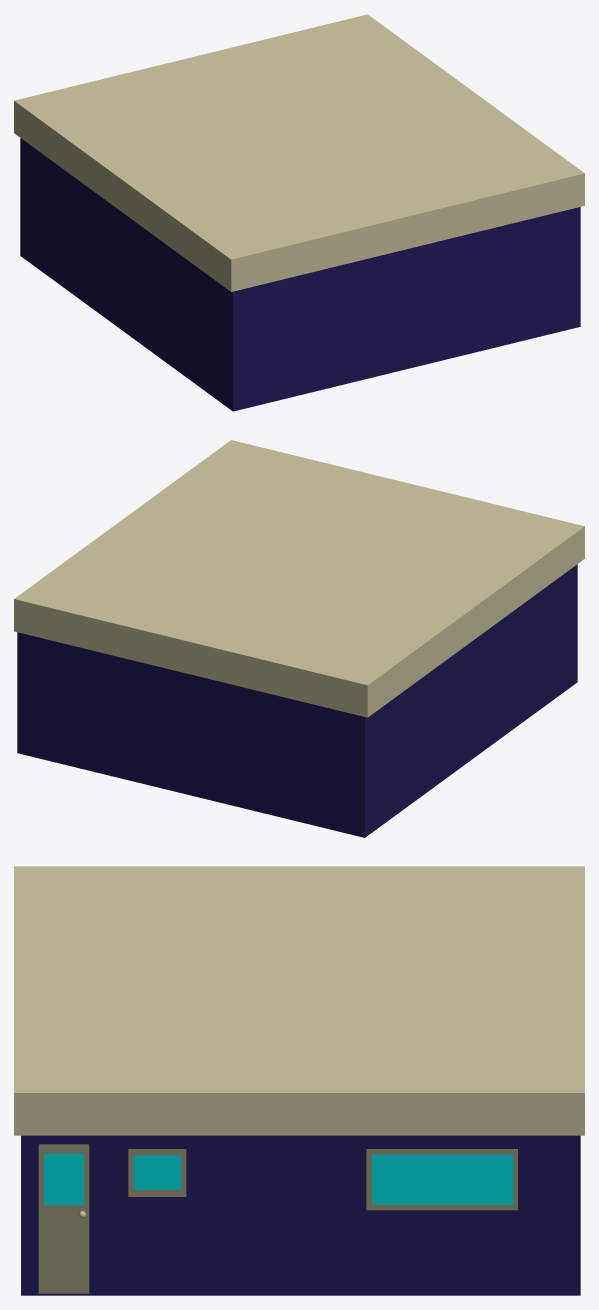
The model's file is house12.fbx.
The picture shows the model from 3 angles, top to bottom: view 1: azimuth 30°, elevation 25°; view 2: azimuth 150°, elevation 25°; view 3: azimuth 270°, elevation 25°; orthographic projection. The views are drawn at different scales.
Visible parts, largest first — view 1: house12; view 2: house12; view 3: house12.
Boxes of the visible parts, bbox=[...] form: house12: bbox=[14, 14, 584, 411]; house12: bbox=[14, 440, 584, 837]; house12: bbox=[14, 866, 584, 1295].
Size of the model in its own units: 295 by 123 by 312.
